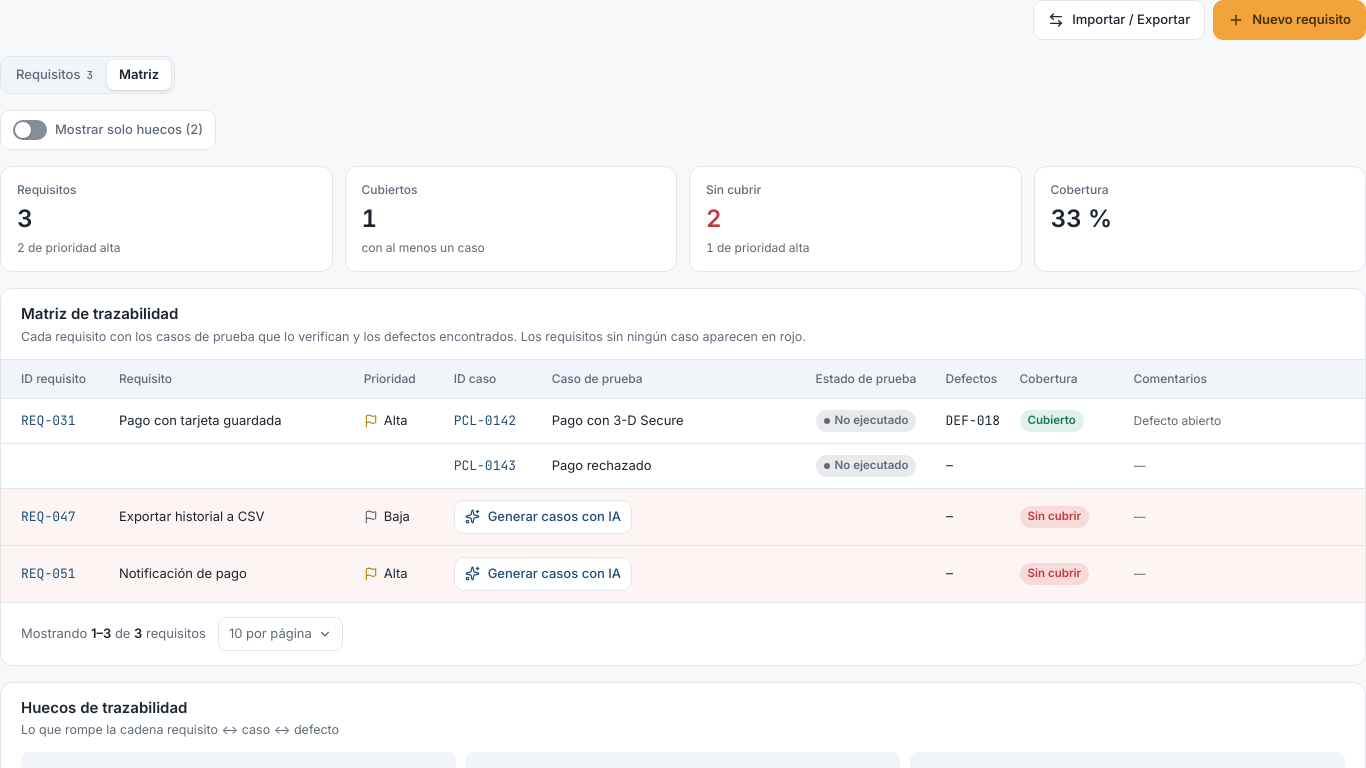
Test: Trazabilidad (RED-V3) › «Mostrar solo huecos» counts and keeps only the uncovered requirements
What coordinates should you click on to do the following:
click the switch named "Mostrar solo huecos (2)"
I would click on:
 (30, 130)
Its box is [13,120,47,140].
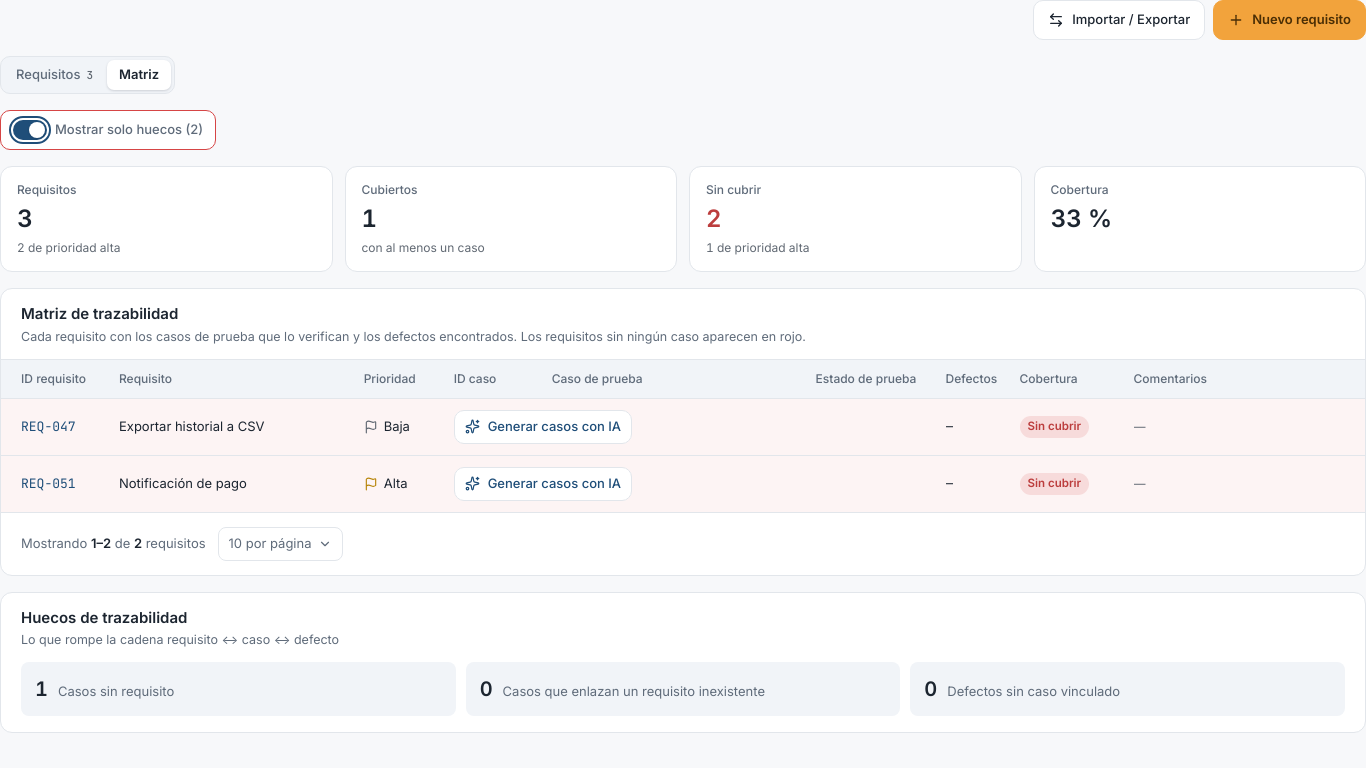
Check: the number of rows is 3, box [1,358,1365,398]; [1,398,1365,456]; [1,456,1365,512]
Check: the text "REQ-031" is gone
